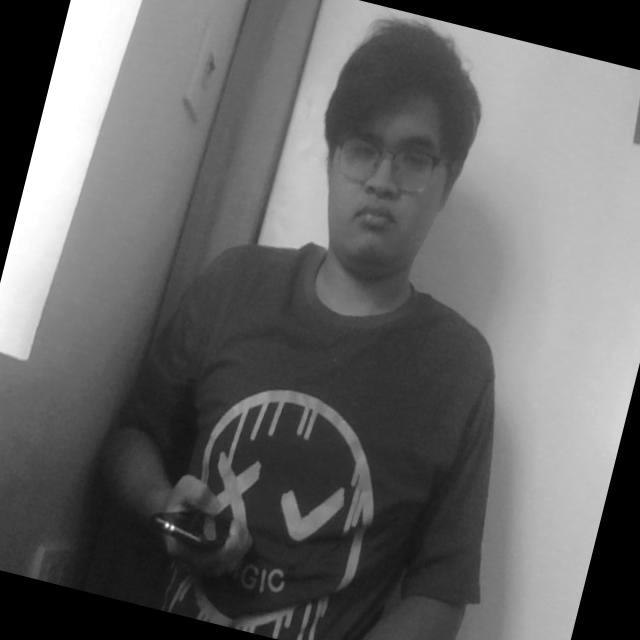phone: (137, 472, 241, 578)
